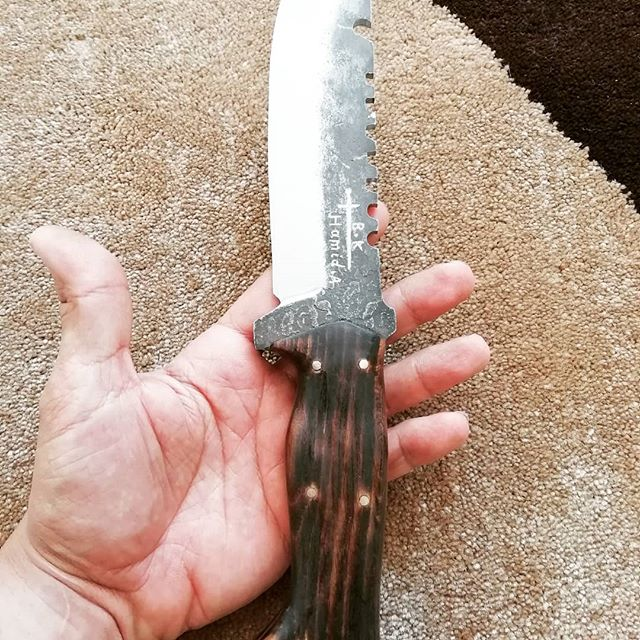knife: (252, 1, 397, 640)
